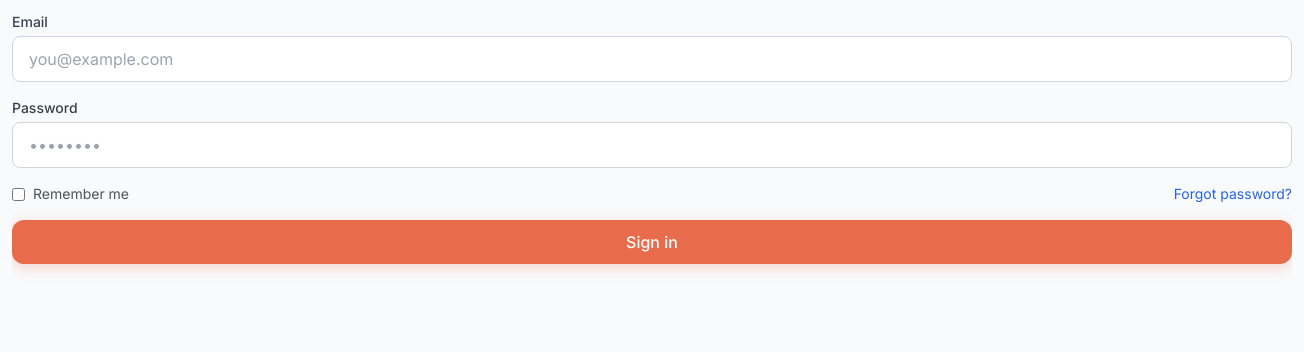
it: LoginForm › shows auth error message for non-login errors
Type "test@example.com" into the field with placeholder "you@example.com" at (652, 59), box top-left (12, 36), bottom-right (1292, 82)
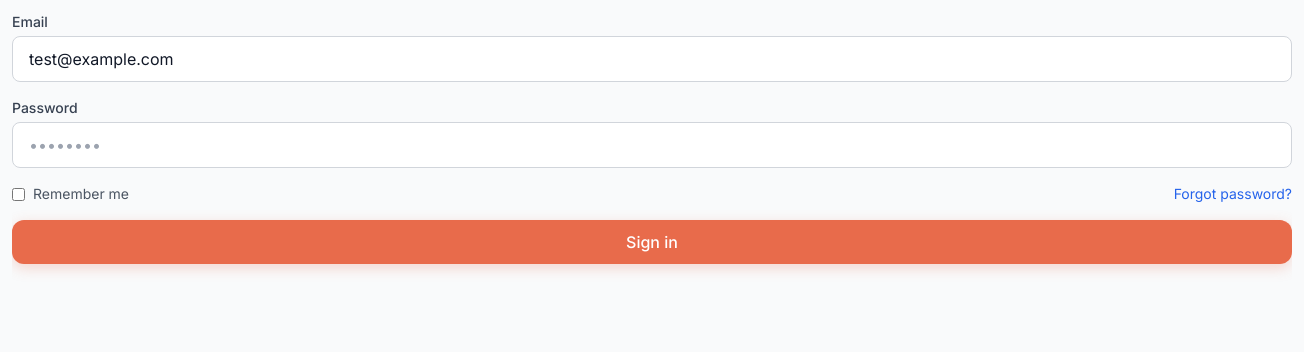
Type "password123" into the password field with placeholder "••••••••" at (652, 145), box top-left (12, 122), bottom-right (1292, 168)
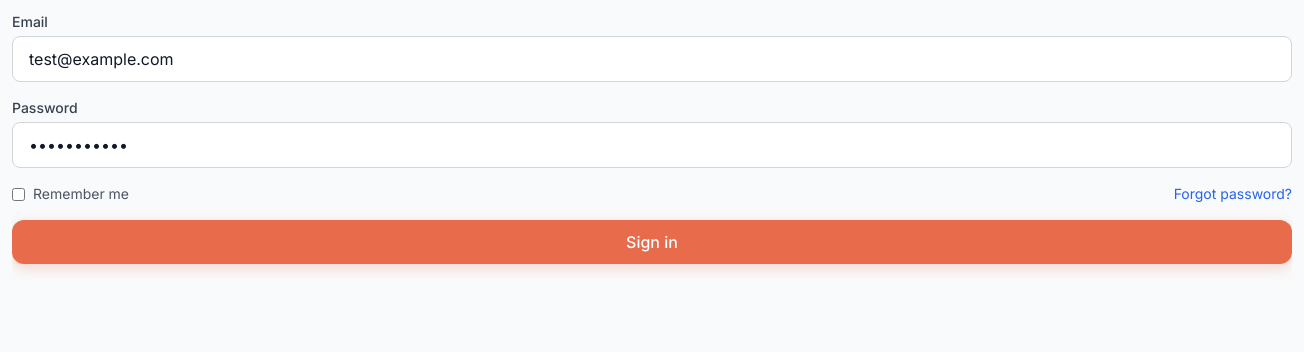
Submit the form from the button "Sign in", box top-left (12, 220), bottom-right (1292, 264)
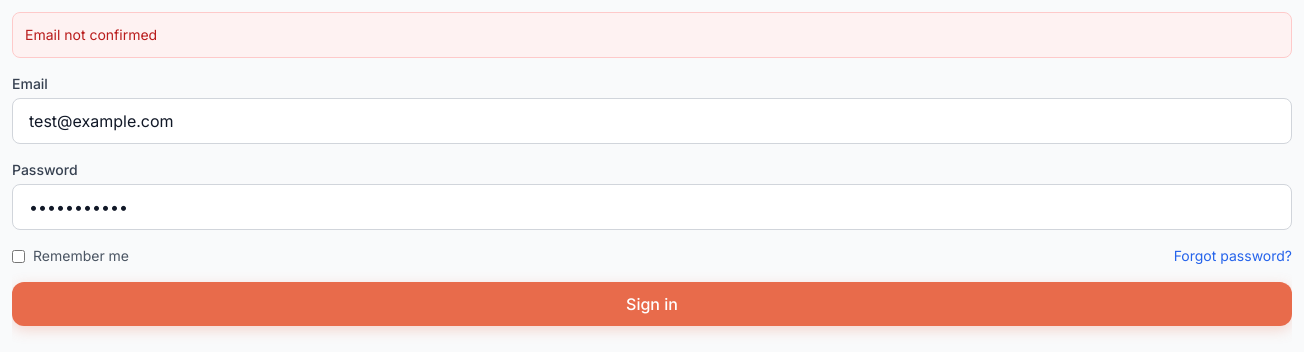
Expected: the text "Email not confirmed" is shown, top-left (12, 12), bottom-right (1292, 58)
